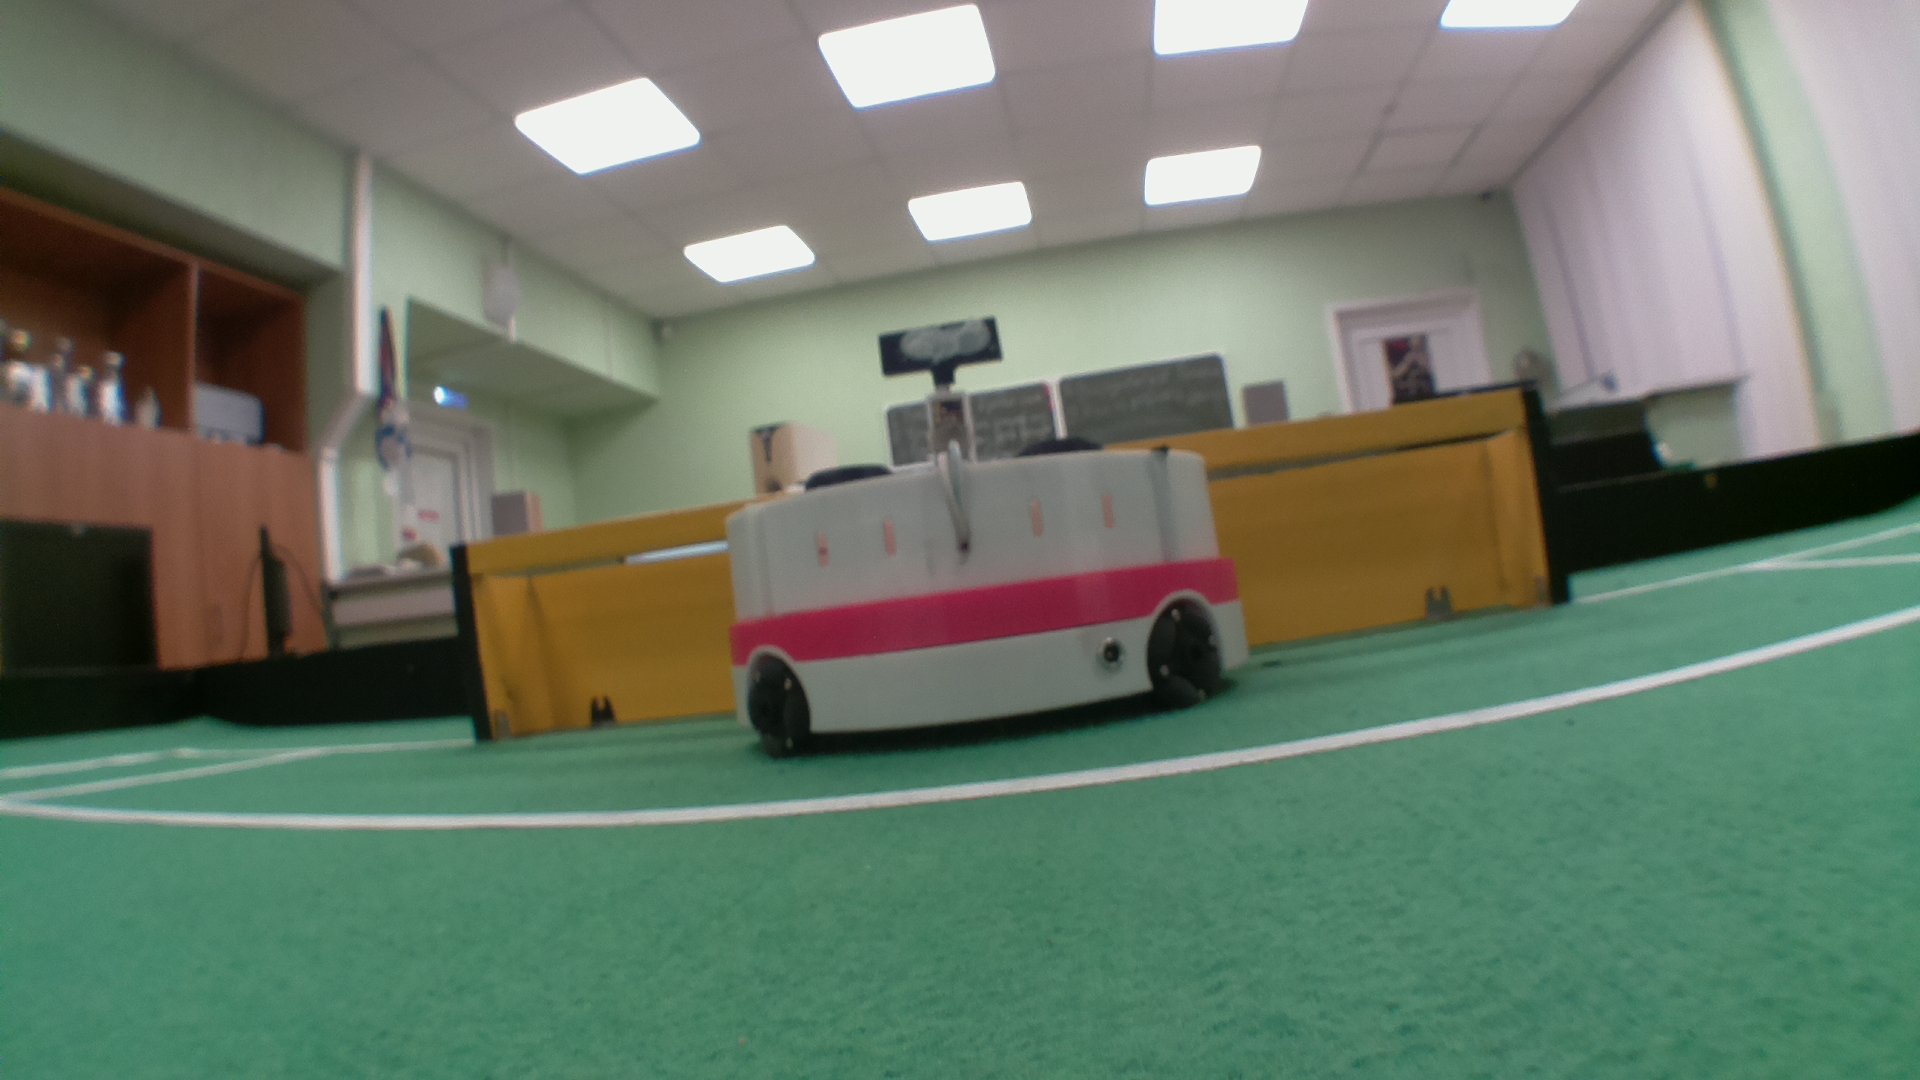YellowGoal: (467, 392, 1543, 729)
